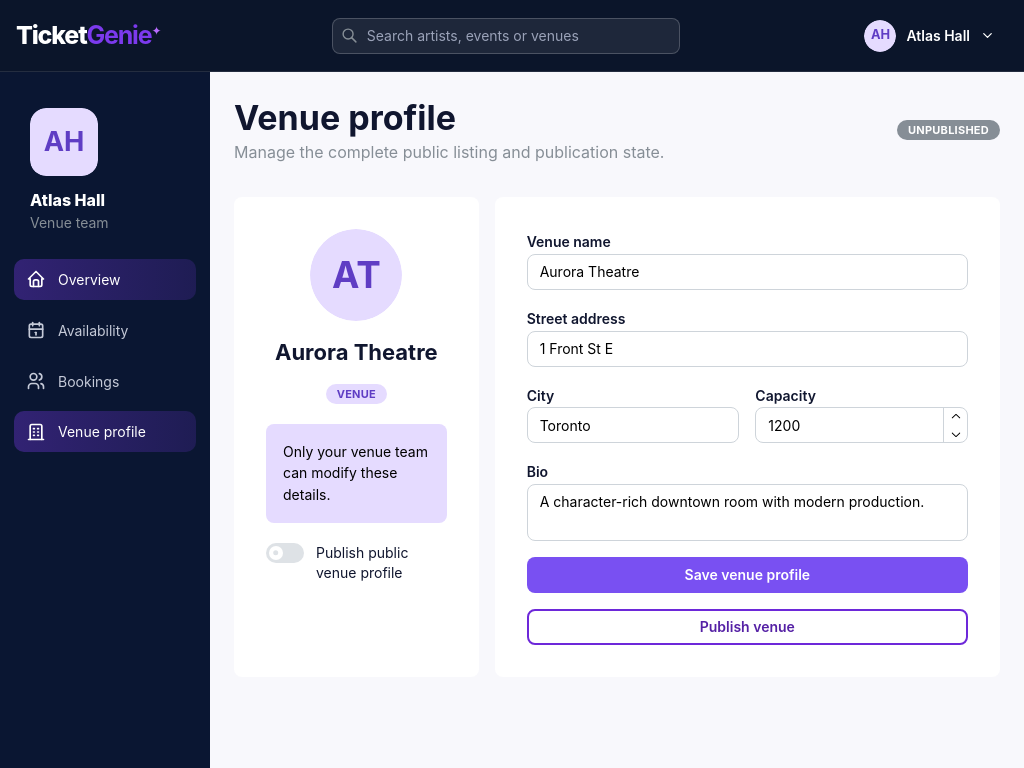
application route smoke coverage › explicitly unpublishes and republishes the Venue profile
The image size is (1024, 768).
Expected: the heading "Venue profile" is shown, [234,97,456,138]
Step 1. Click the button "Publish venue" → (747,626), box [527,608,968,644]
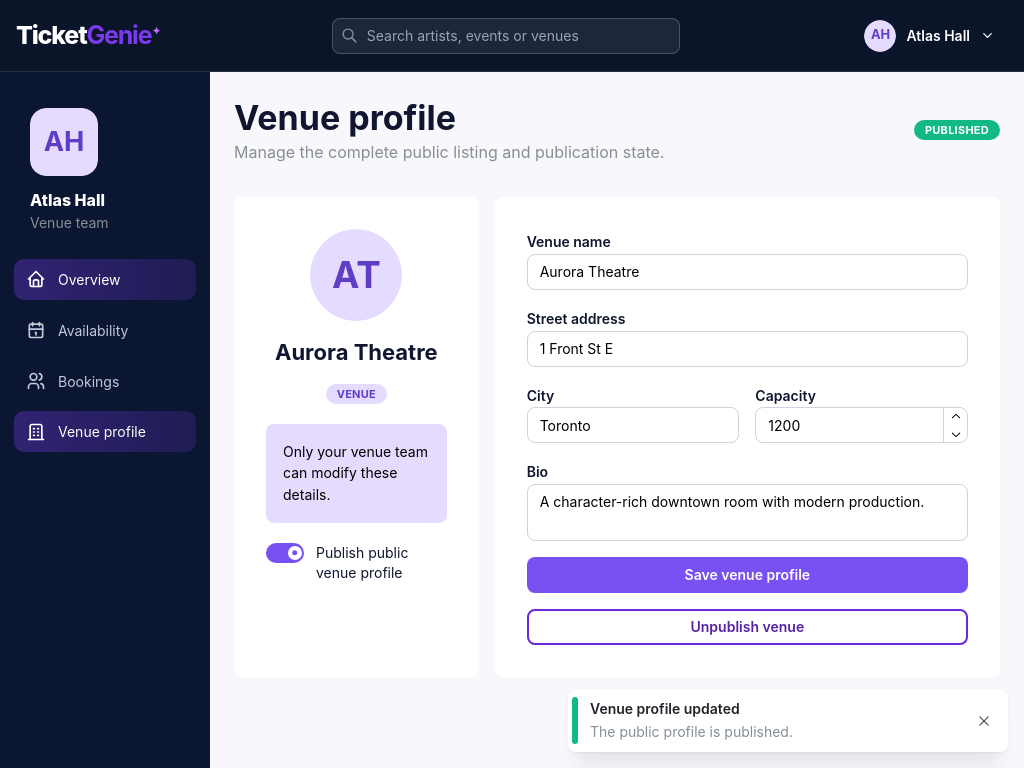
Expected: the text "Published" is shown, [925,122,989,140]
Step 2. Click the button "Unpublish venue" → (747,626), box [527,608,968,644]
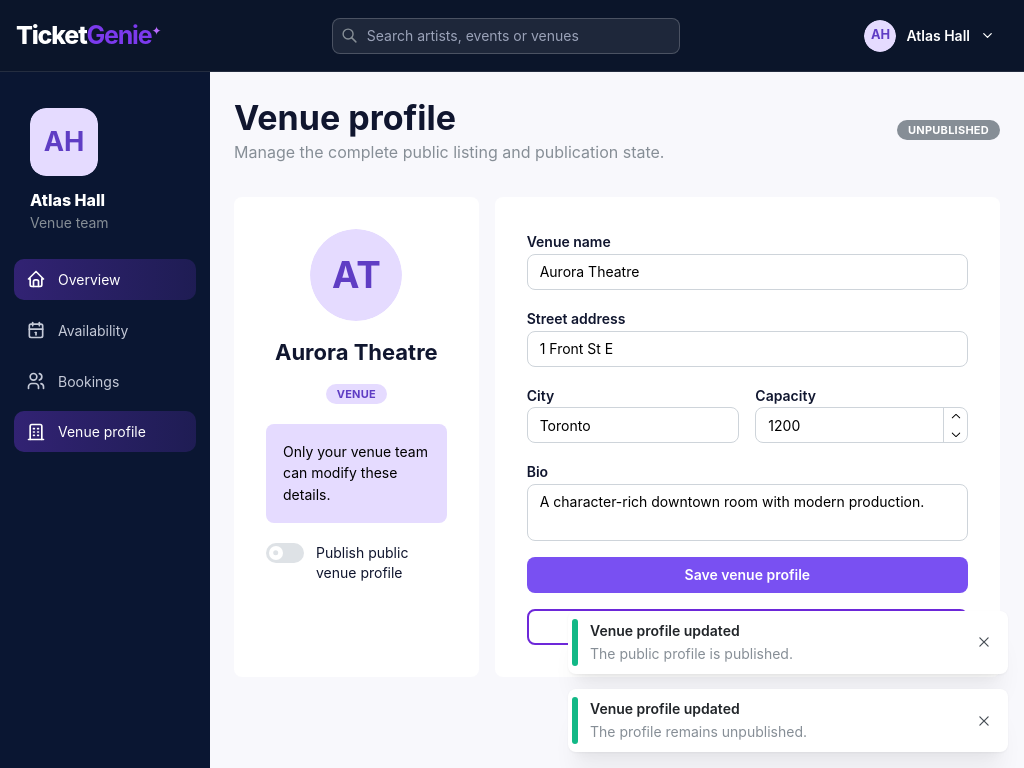
Expected: the text "Unpublished" is shown, [908,122,989,140]
